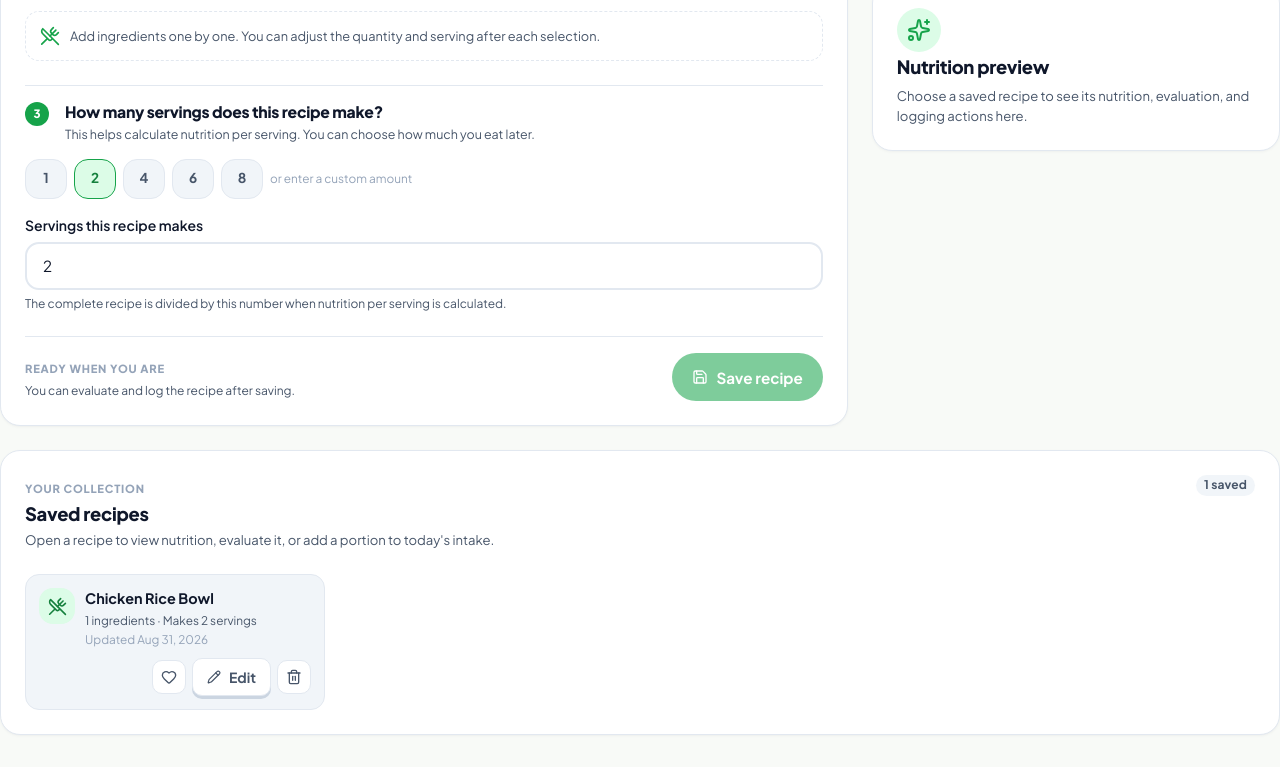
Test: RecipesPage › renders saved recipes and canonical nutrition details
(page scrolled)
Expected: the text "Chicken Rice Bowl" is shown, [85,589,214,607]
What coordinates should you click on to do the following:
click the button "Chicken Rice Bowl"
I would click on:
 (175, 618)
Its box is [39,588,311,648].
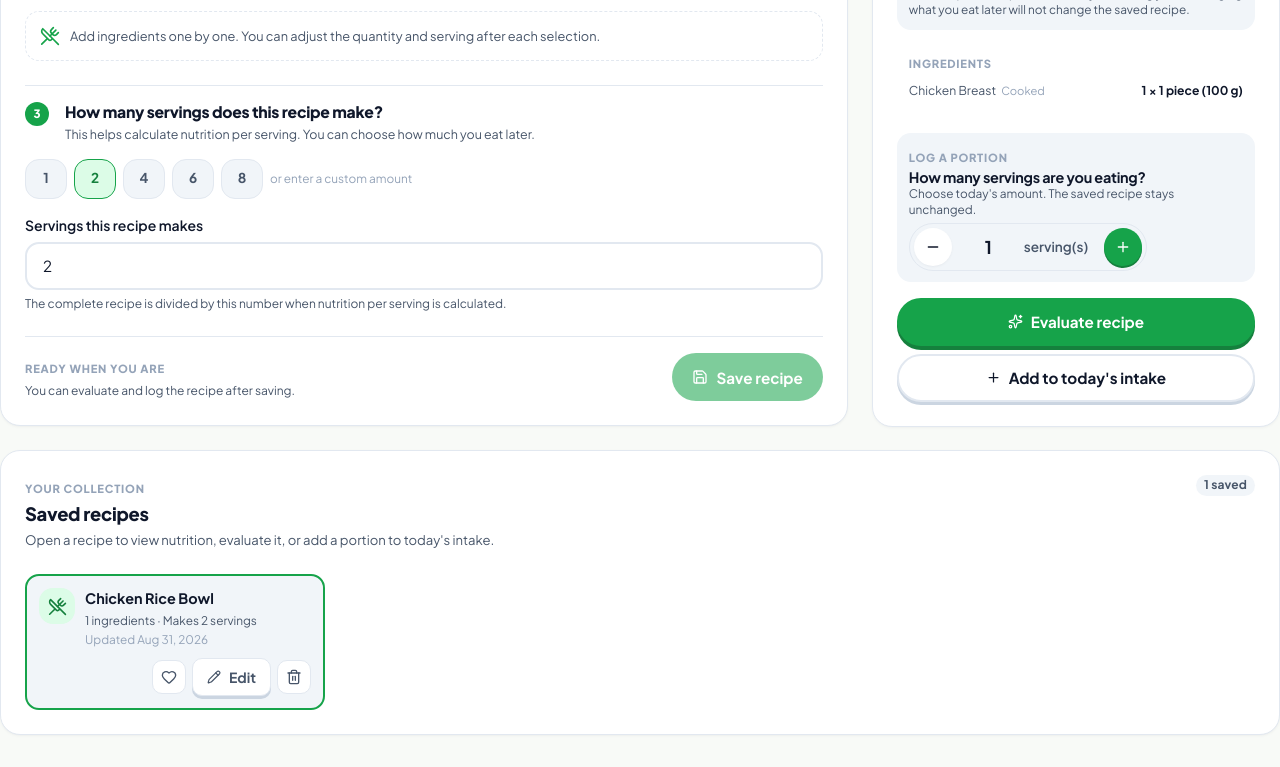
Expected: the text "Chicken Breast" is shown, [909,82,996,98]
